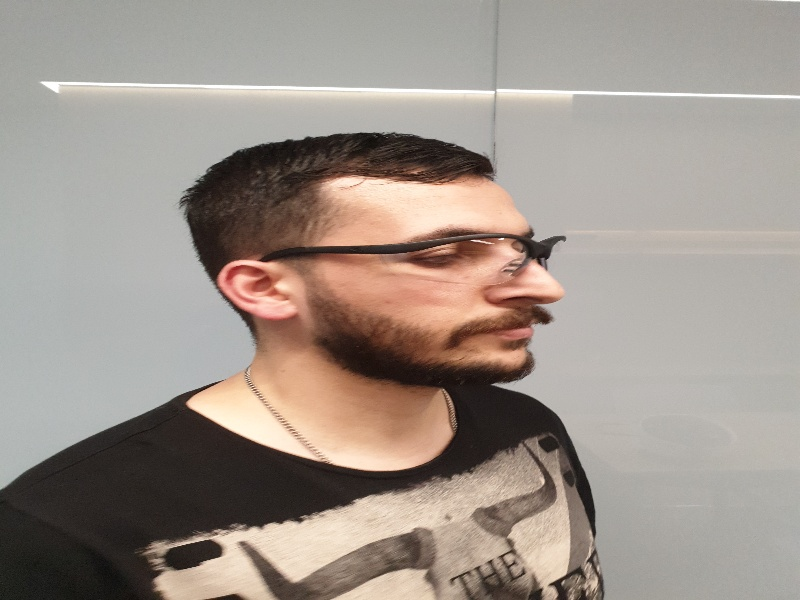Gozluk: (263, 232, 566, 288)
